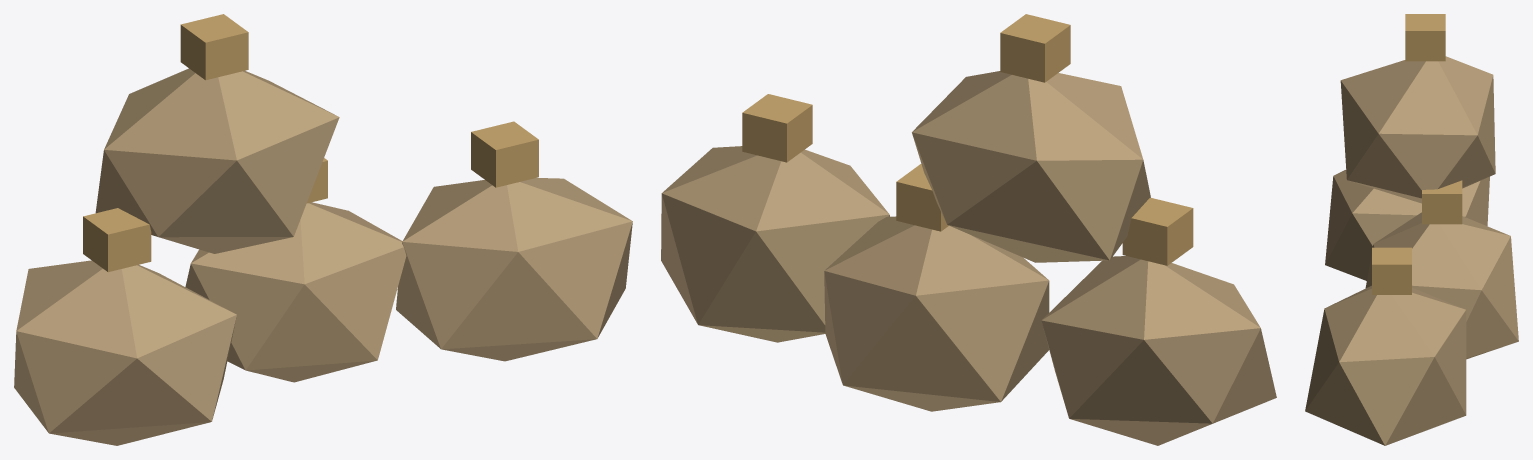
The model's file is PR_Sacks.fbx.
3 renders of one model, left to right at view 1: azimuth 30°, elevation 25°; view 2: azimuth 150°, elevation 25°; view 3: azimuth 270°, elevation 25°, orthographic. The views are drawn at different scales.
Visible parts, largest first — view 1: PR_Sacks; view 2: PR_Sacks; view 3: PR_Sacks.
Part boxes in pixels (x1=…): PR_Sacks: x1=14, y1=14, x2=632, y2=445; PR_Sacks: x1=661, y1=14, x2=1276, y2=445; PR_Sacks: x1=1305, y1=14, x2=1518, y2=445.
Bounding box in the file's own units: 1.65 × 0.6384 × 1.02.
